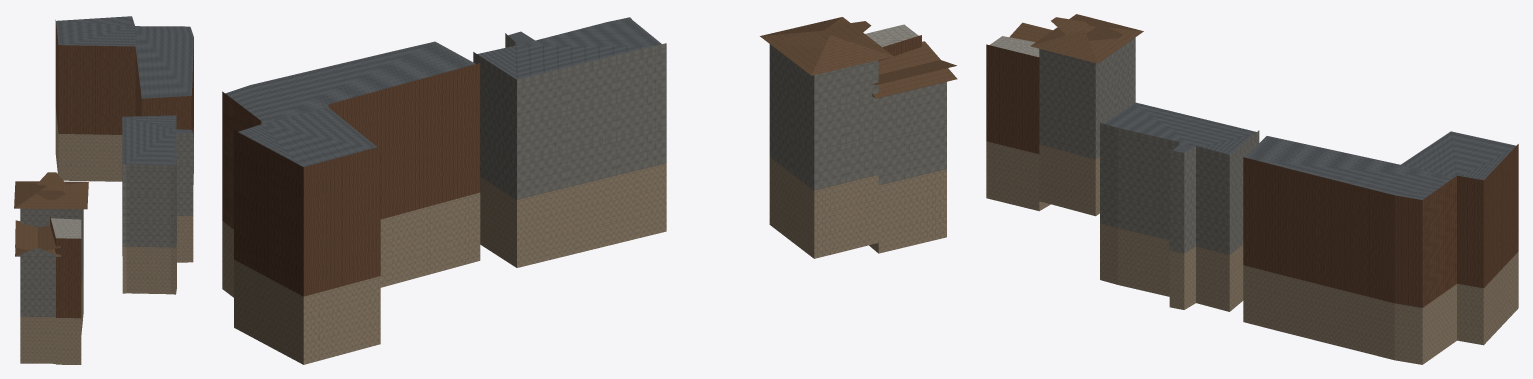
The model's file is bld_c32_46_242.gltf.
3 renders of one model, left to right at view 1: azimuth 30°, elevation 25°; view 2: azimuth 150°, elevation 25°; view 3: azimuth 270°, elevation 25°, orthographic. The views are drawn at different scales.
Parts seen in each view (by area): view 1: bld_c32_46_242; view 2: bld_c32_46_242; view 3: bld_c32_46_242.
Boxes of the visible parts, x1,y1,x2,y2 form: bld_c32_46_242: [14, 16, 193, 364]; bld_c32_46_242: [222, 17, 957, 364]; bld_c32_46_242: [986, 14, 1518, 364].
Bounding box in the file's own units: 38.76 × 15.9 × 43.2.
Materials: 8 (8 with a texture image).
